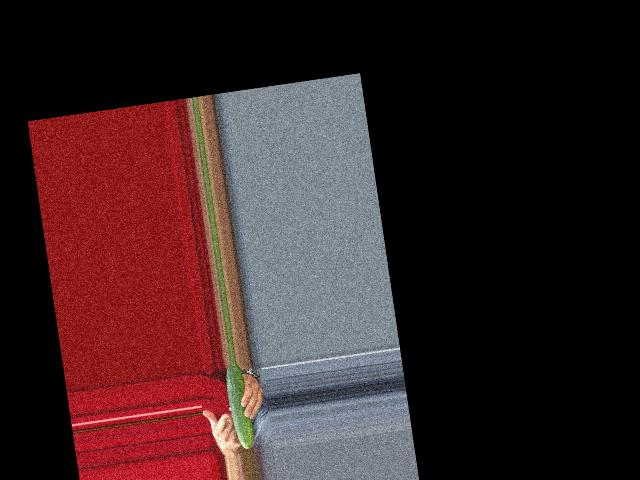cucumber: (223, 362, 256, 450)
